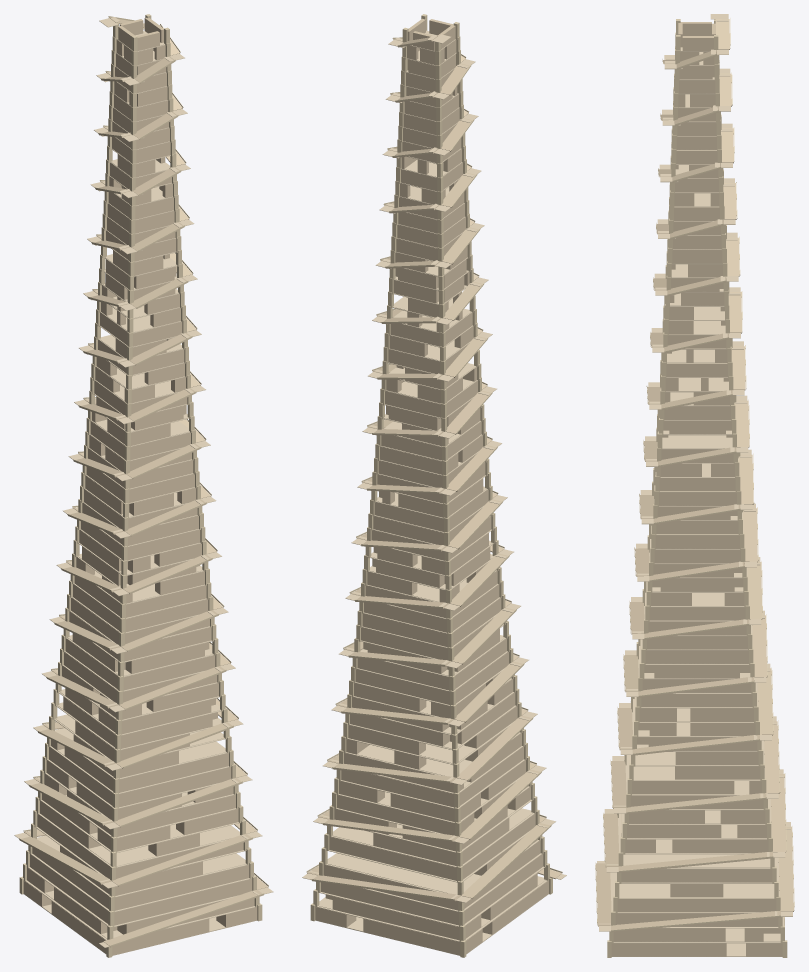
Rendered from babel_tower_977119991.glb.
3 renders of one model, left to right at view 1: azimuth 30°, elevation 25°; view 2: azimuth 150°, elevation 25°; view 3: azimuth 270°, elevation 25°, orthographic.
Visible parts, largest first — view 1: stoneGroup, capGroup, columnGroup; view 2: stoneGroup, capGroup, columnGroup; view 3: stoneGroup, capGroup, columnGroup.
Part boxes in pixels (box(x1,y1,x2,y2)): stoneGroup: box(19, 17, 268, 955); capGroup: box(14, 17, 273, 955); columnGroup: box(19, 14, 268, 957); stoneGroup: box(307, 18, 562, 955); capGroup: box(302, 30, 566, 955); columnGroup: box(306, 14, 562, 957); stoneGroup: box(596, 19, 793, 956); capGroup: box(597, 14, 792, 956); columnGroup: box(595, 18, 794, 957).
Bounding box in the file's own units: 91.38 × 450 × 90.92.
